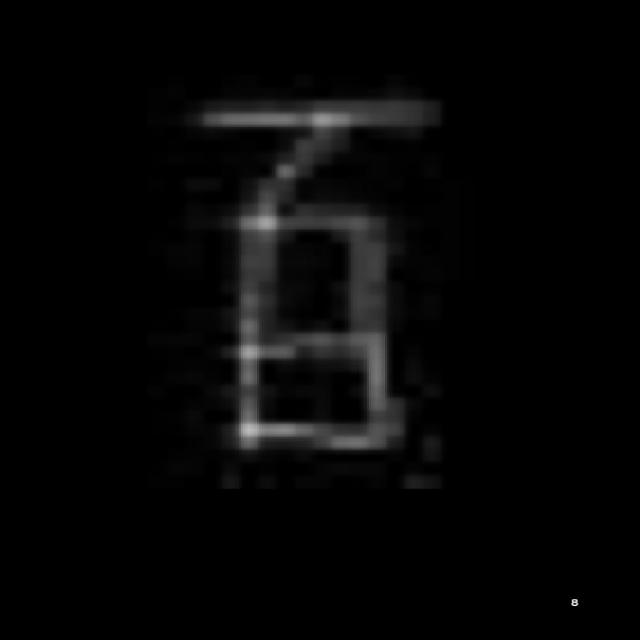100 -a hundred-: (183, 85, 445, 468)
